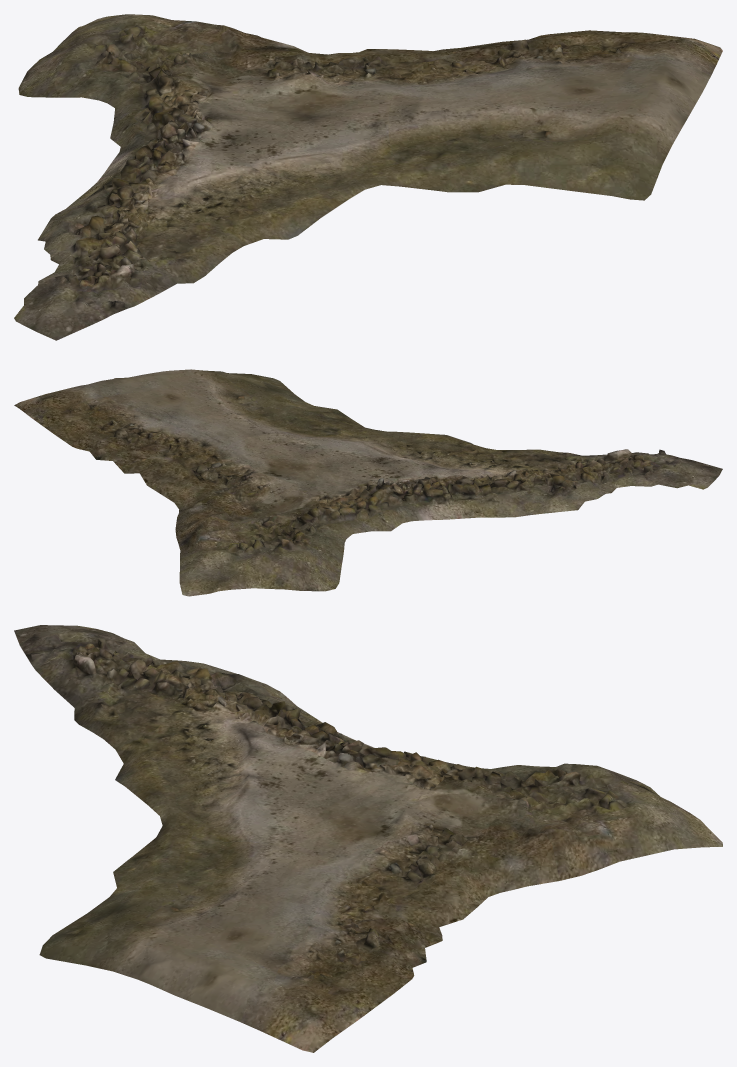
The model's file is coast_rocks_01.glb.
The picture shows the model from 3 angles, top to bottom: view 1: azimuth 30°, elevation 25°; view 2: azimuth 150°, elevation 25°; view 3: azimuth 270°, elevation 25°; orthographic projection. The views are drawn at different scales.
Visible parts, largest first — view 1: coast_rocks_01; view 2: coast_rocks_01; view 3: coast_rocks_01.
Boxes of the visible parts, box(x1,y1,x2,y2) form: coast_rocks_01: box(14, 14, 722, 340); coast_rocks_01: box(14, 369, 722, 596); coast_rocks_01: box(14, 625, 722, 1052).
Bounding box in the file's own units: 59.51 × 3.29 × 42.49.
1 material, 1 textured.
